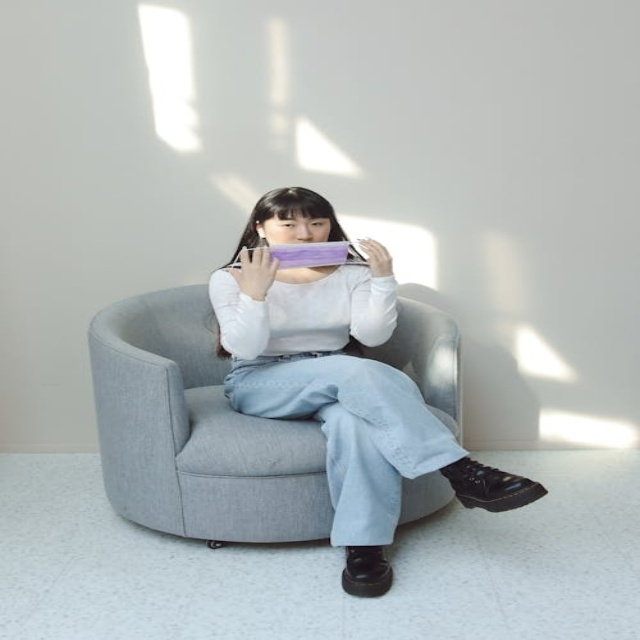Sin_gafas: (268, 215, 329, 228)
Sin_guantes: (230, 244, 287, 296), (349, 236, 402, 276)
